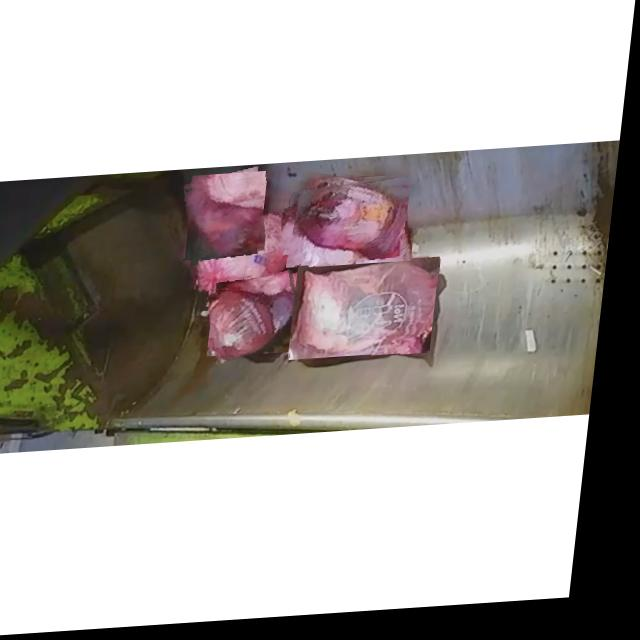other_trashbag: (299, 267, 441, 360), (299, 187, 413, 267), (204, 218, 305, 308), (214, 293, 304, 364), (190, 188, 270, 258), (313, 234, 418, 286)
